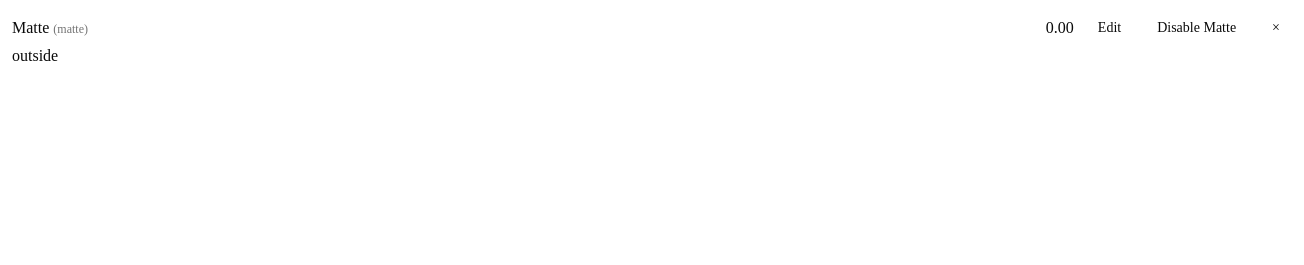
Test: ValueRow percentage pricing › offers a price type
Click the button with aria-label "Edit Matte".
click(1109, 28)  # box [1086, 12, 1133, 44]
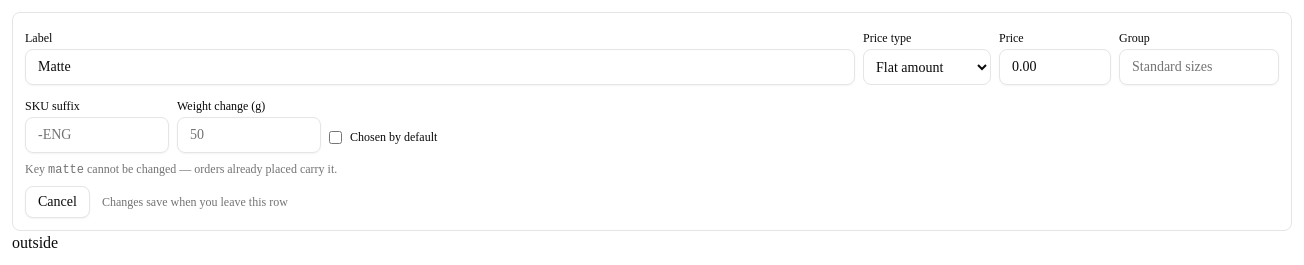
Check: the dropdown labelled "Price type" is shown, box [863, 49, 991, 85]
